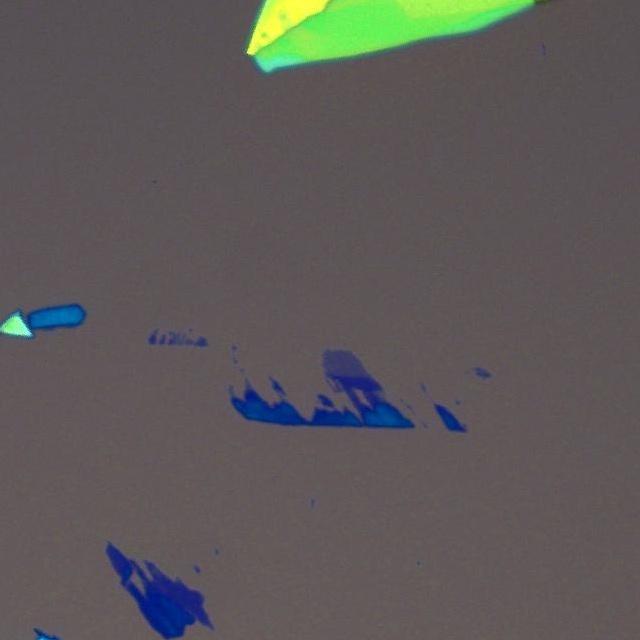monolayer-eWW4: (321, 348, 369, 378)
